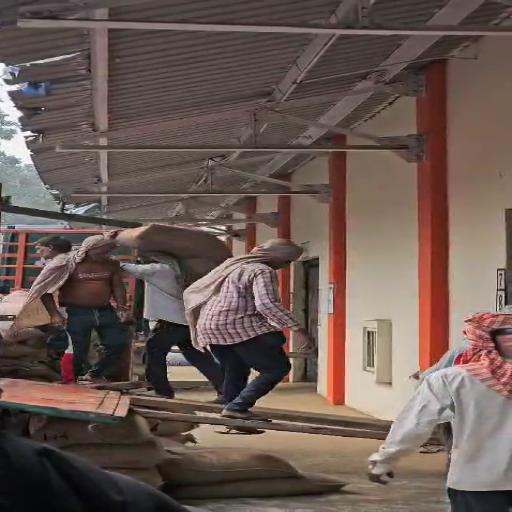bag: (111, 224, 238, 276)
